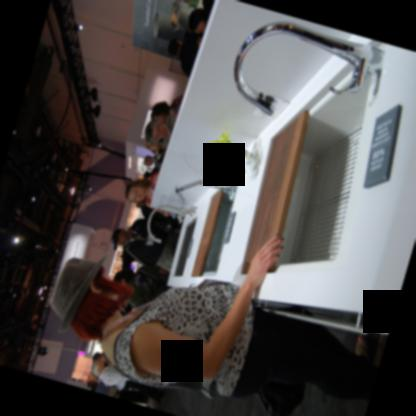handbag: (254, 378, 306, 416)
